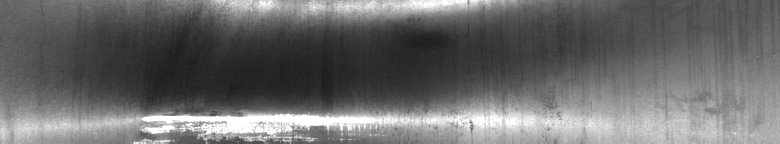ke: (124, 4, 491, 136)
